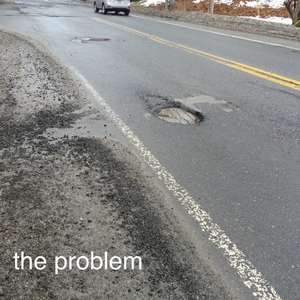pothole: (148, 96, 206, 127)
